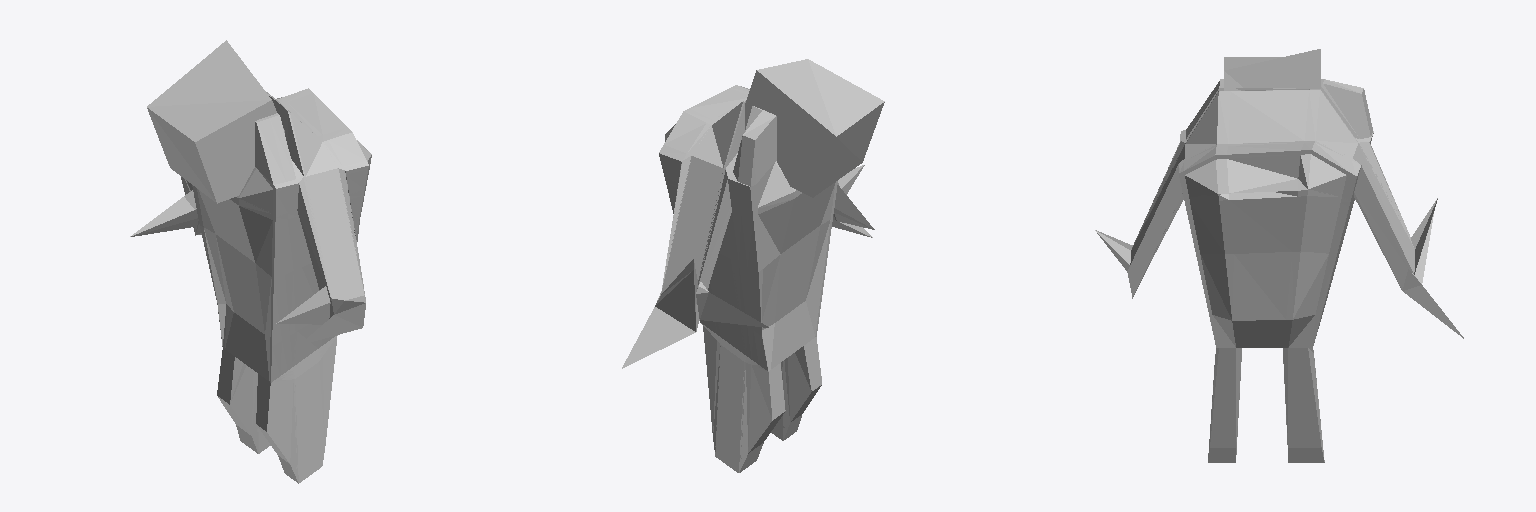
File: shambler.obj
3 renders of one model, left to right at view 1: azimuth 30°, elevation 25°; view 2: azimuth 150°, elevation 25°; view 3: azimuth 270°, elevation 25°, orthographic.
Visible parts, largest first — view 1: Body, Head_Cube; view 2: Body, Head_Cube; view 3: Body, Head_Cube.
Part boxes in pixels (left/top/right/bottom): Body: left=130, top=88, right=371, bottom=483; Head_Cube: left=147, top=40, right=284, bottom=203; Body: left=622, top=85, right=874, bottom=472; Head_Cube: left=745, top=59, right=884, bottom=197; Body: left=1095, top=79, right=1463, bottom=462; Head_Cube: left=1224, top=49, right=1320, bottom=90.
Size of the model in its own units: 4.24 by 9.24 by 7.67.